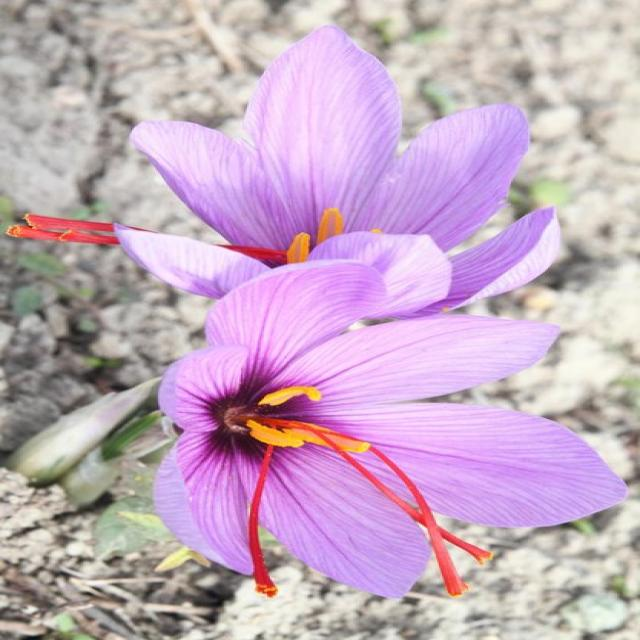saffron open: (158, 261, 623, 598), (131, 26, 559, 318), (117, 225, 268, 298)
